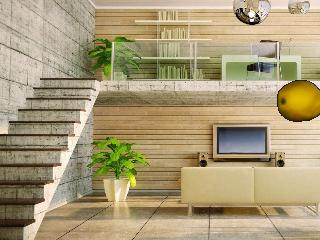lemon: (278, 82, 320, 121)
